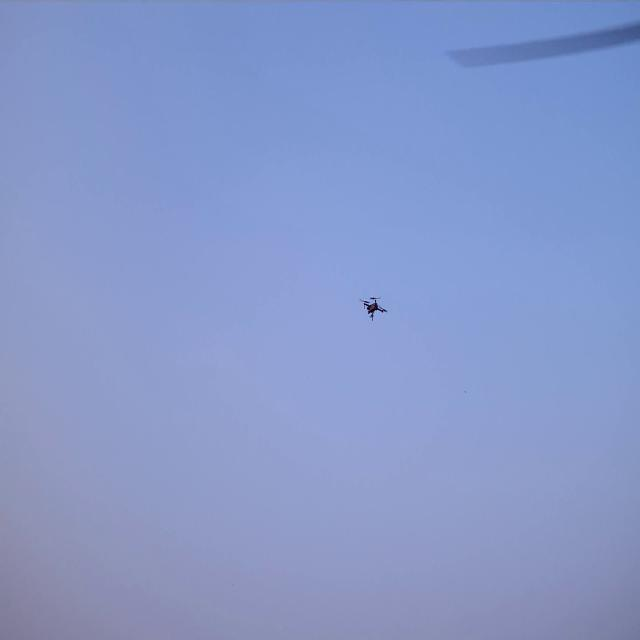UAV: (364, 297, 386, 320)
